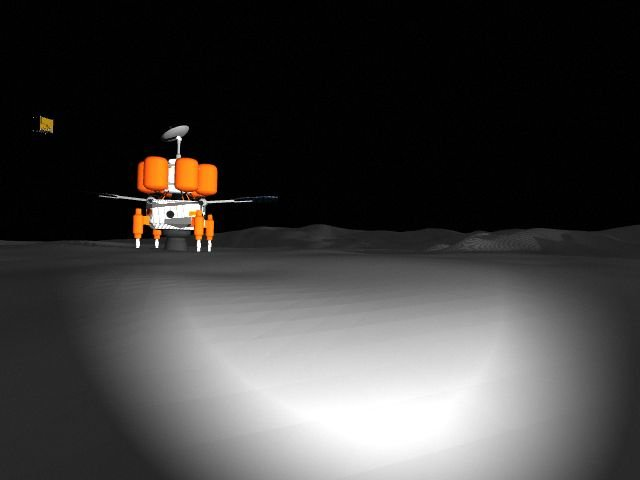cubesat: (22, 111, 58, 143)
